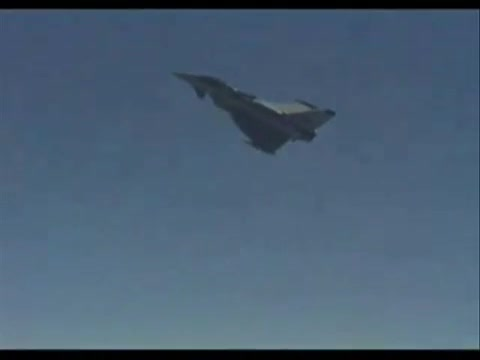aeroplane: (173, 70, 338, 156)
